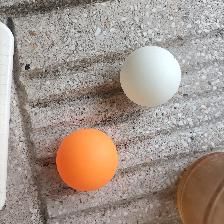WhiteBall: (119, 45, 181, 107)
YellowBall: (56, 128, 118, 191)
